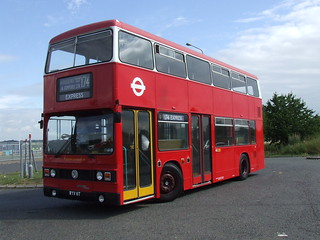bus: (42, 19, 264, 207)
